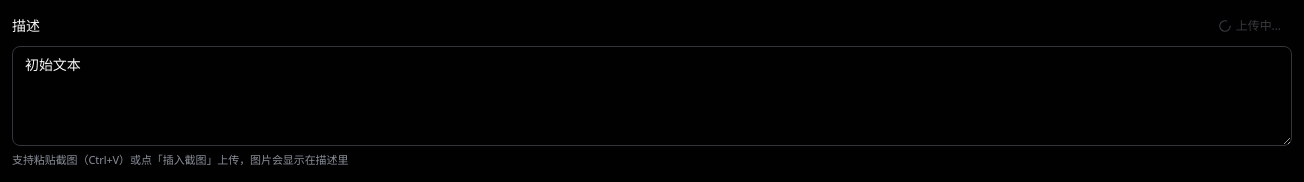
it: BugDescriptionField asynchronous uploads › keeps intervening typing and both image links across sequential deferred uploads
This screenshot has width=1304, height=182.
Earlier steps of the test are not shown.
Expected: the button "上传中..." is disabled, [1207,12,1292,40]
Type " typed" into the text box at (652, 96), box [12,46,1292,146]
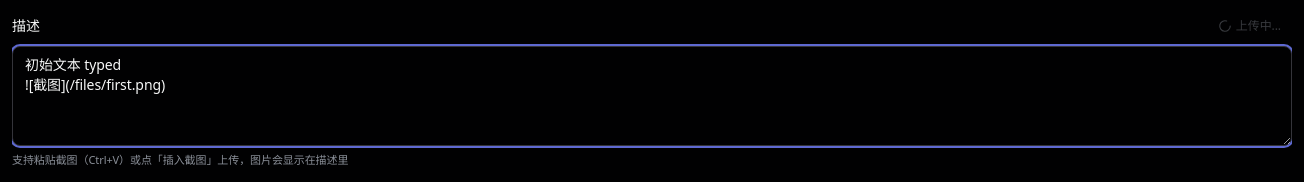
Type " between" into the text box at (652, 96), box [12,46,1292,146]
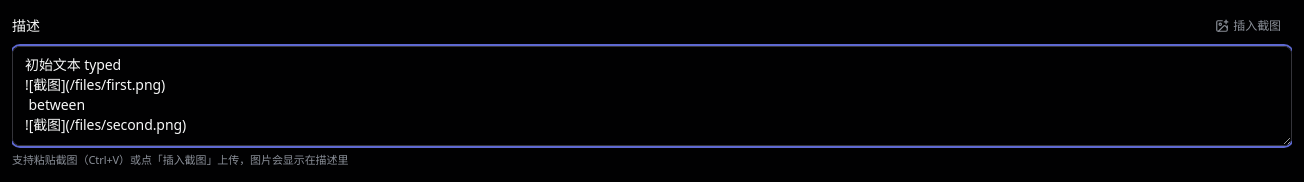
Now the button "插入截图" is enabled, box [1204,12,1292,40]
